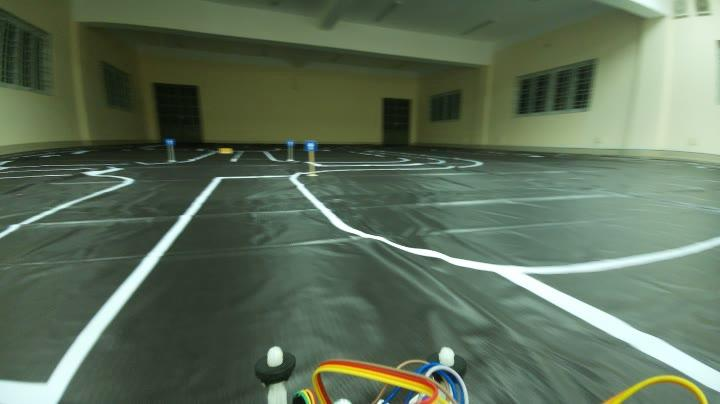onewayroad: (304, 138, 318, 152), (284, 139, 294, 146), (166, 139, 174, 146)
roadblock: (216, 148, 236, 154)
